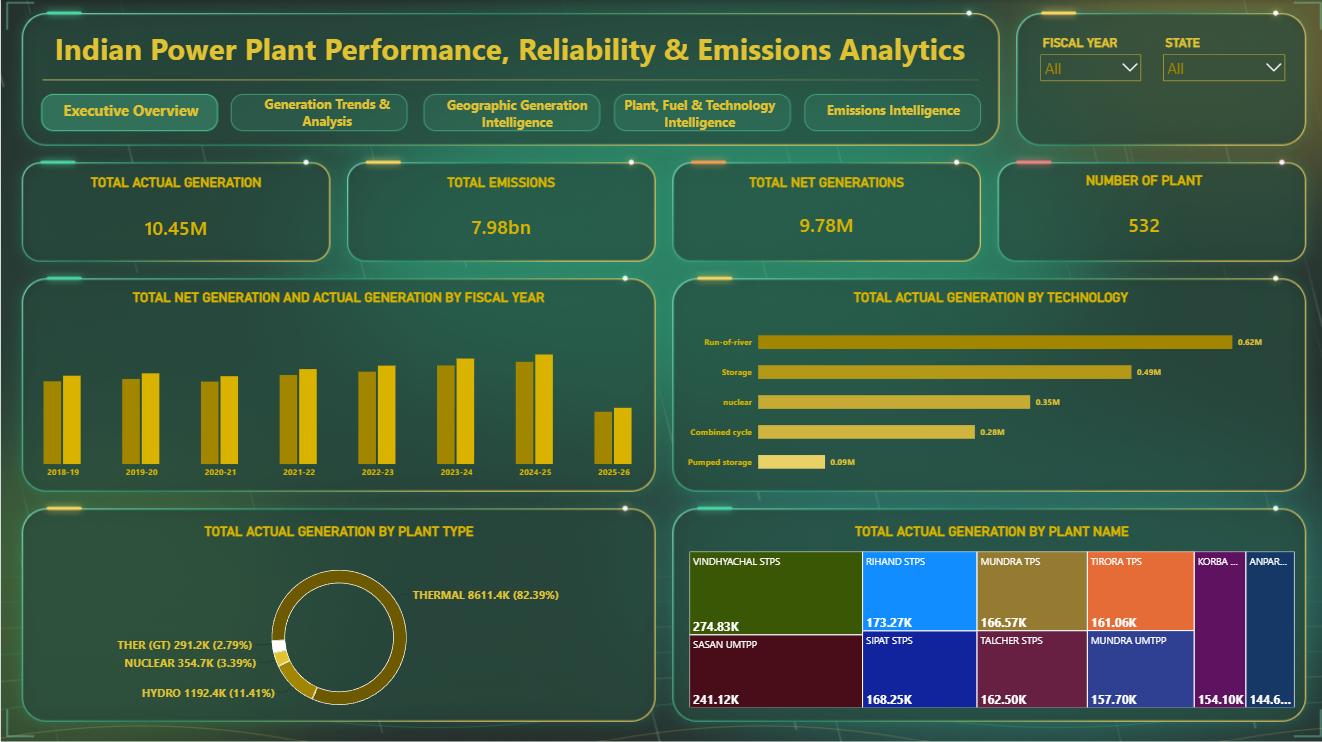

Layout of this report page (visuals, bound fields, positions):
{"tool":"powerbi","page":{"name":"OVERVIEW","canvas":[1920,1080],"ordinal":0},"visuals":[{"type":"treemap","title":"TOTAL ACTUAL GENERATION BY PLANT NAME","fields":{"Group":["Dim_PlantUnitYear.plant_name"],"Values":["calculation_table.Total_actual_generation"]},"box":[980.8,745.6,907.7,296.4],"z":0},{"type":"donutChart","title":"TOTAL ACTUAL GENERATION BY PLANT TYPE","fields":{"Category":["Dim_PlantUnitYear.type"],"Y":["calculation_table.Total_actual_generation"]},"box":[77.8,745.6,823.4,318.5],"z":1000},{"type":"clusteredColumnChart","title":"TOTAL NET GENERATION AND ACTUAL GENERATION BY FISCAL YEAR","fields":{"Category":["Dim_PlantUnitYear.fiscal_year"],"Y":["calculation_table.Total_net_generations","calculation_table.Total_actual_generation"]},"box":[0,407.5,977.7,306.7],"z":2000},{"type":"card","title":"TOTAL ACTUAL GENERATION","fields":{"Values":["calculation_table.Total_actual_generation"]},"box":[35,240.8,438.4,142],"z":3000},{"type":"card","title":"TOTAL EMISSIONS","fields":{"Values":["calculation_table.Total_emissions"]},"box":[504.3,240.8,438.4,140],"z":4000},{"type":"card","title":"TOTAL NET GENERATIONS","fields":{"Values":["calculation_table.Total_net_generations"]},"box":[977.7,240.8,436.4,133.8],"z":5000},{"type":"card","title":"NUMBER OF PLANT ","fields":{"Values":["calculation_table.number_of_plant_units"]},"box":[1444.9,236.7,422,142],"z":6000},{"type":"clusteredBarChart","title":"TOTAL ACTUAL GENERATION BY TECHNOLOGY","fields":{"Category":["Fact_PowerGeneration.technology"],"Y":["calculation_table.Total_actual_generation"]},"box":[977.2,407.2,912.1,307.6],"z":7000},{"type":"textbox","box":[77.8,41.6,1512.9,150.2],"z":8000,"group":"g1"},{"type":"slicer","fields":{"Values":["Dim_PlantUnitYear.fiscal_year"]},"box":[1500.2,52.5,155.6,150.2],"z":8000},{"type":"slicer","fields":{"Values":["Dim_Geography.state_id"]},"box":[1677.6,52.5,186.4,150.2],"z":9000},{"type":"pageNavigator","box":[56.1,141.1,1357.2,50.7],"z":9000,"group":"g1"},{"type":"group","id":"g1","title":"Group 1","box":[56.1,41.6,1534.6,159.3],"z":10000},{"type":"textbox","box":[77.8,146.6,220.8,39.8],"z":10000,"group":"g1"},{"type":"textbox","box":[352.9,139.3,238.9,52.5],"z":11000,"group":"g1"},{"type":"textbox","box":[637,141.1,220.8,59.7],"z":12000,"group":"g1"},{"type":"textbox","box":[901.2,141.1,220.8,54.3],"z":13000,"group":"g1"},{"type":"textbox","box":[1181.5,149.1,220.8,36.2],"z":14000,"group":"g1"}]}

Visuals, with their boxes in screenshot pixels (x1, y1, x2, y2), scaled from the page's 1920x1080 canvas onto the 1322x742 screenshot:
"TOTAL ACTUAL GENERATION BY PLANT NAME" treemap: 675,512,1300,716
"TOTAL ACTUAL GENERATION BY PLANT TYPE" donutChart: 54,512,621,731
"TOTAL NET GENERATION AND ACTUAL GENERATION BY FISCAL YEAR" clusteredColumnChart: 0,280,673,491
"TOTAL ACTUAL GENERATION" card: 24,165,326,263
"TOTAL EMISSIONS" card: 347,165,649,262
"TOTAL NET GENERATIONS" card: 673,165,974,257
"NUMBER OF PLANT " card: 995,163,1285,260
"TOTAL ACTUAL GENERATION BY TECHNOLOGY" clusteredBarChart: 673,280,1301,491
textbox: 54,29,1095,132
slicer - Dim_PlantUnitYear.fiscal_year: 1033,36,1140,139
slicer - Dim_Geography.state_id: 1155,36,1283,139
pageNavigator: 39,97,973,132
"Group 1" group: 39,29,1095,138
textbox: 54,101,206,128
textbox: 243,96,407,132
textbox: 439,97,591,138
textbox: 621,97,773,134
textbox: 814,102,966,127
